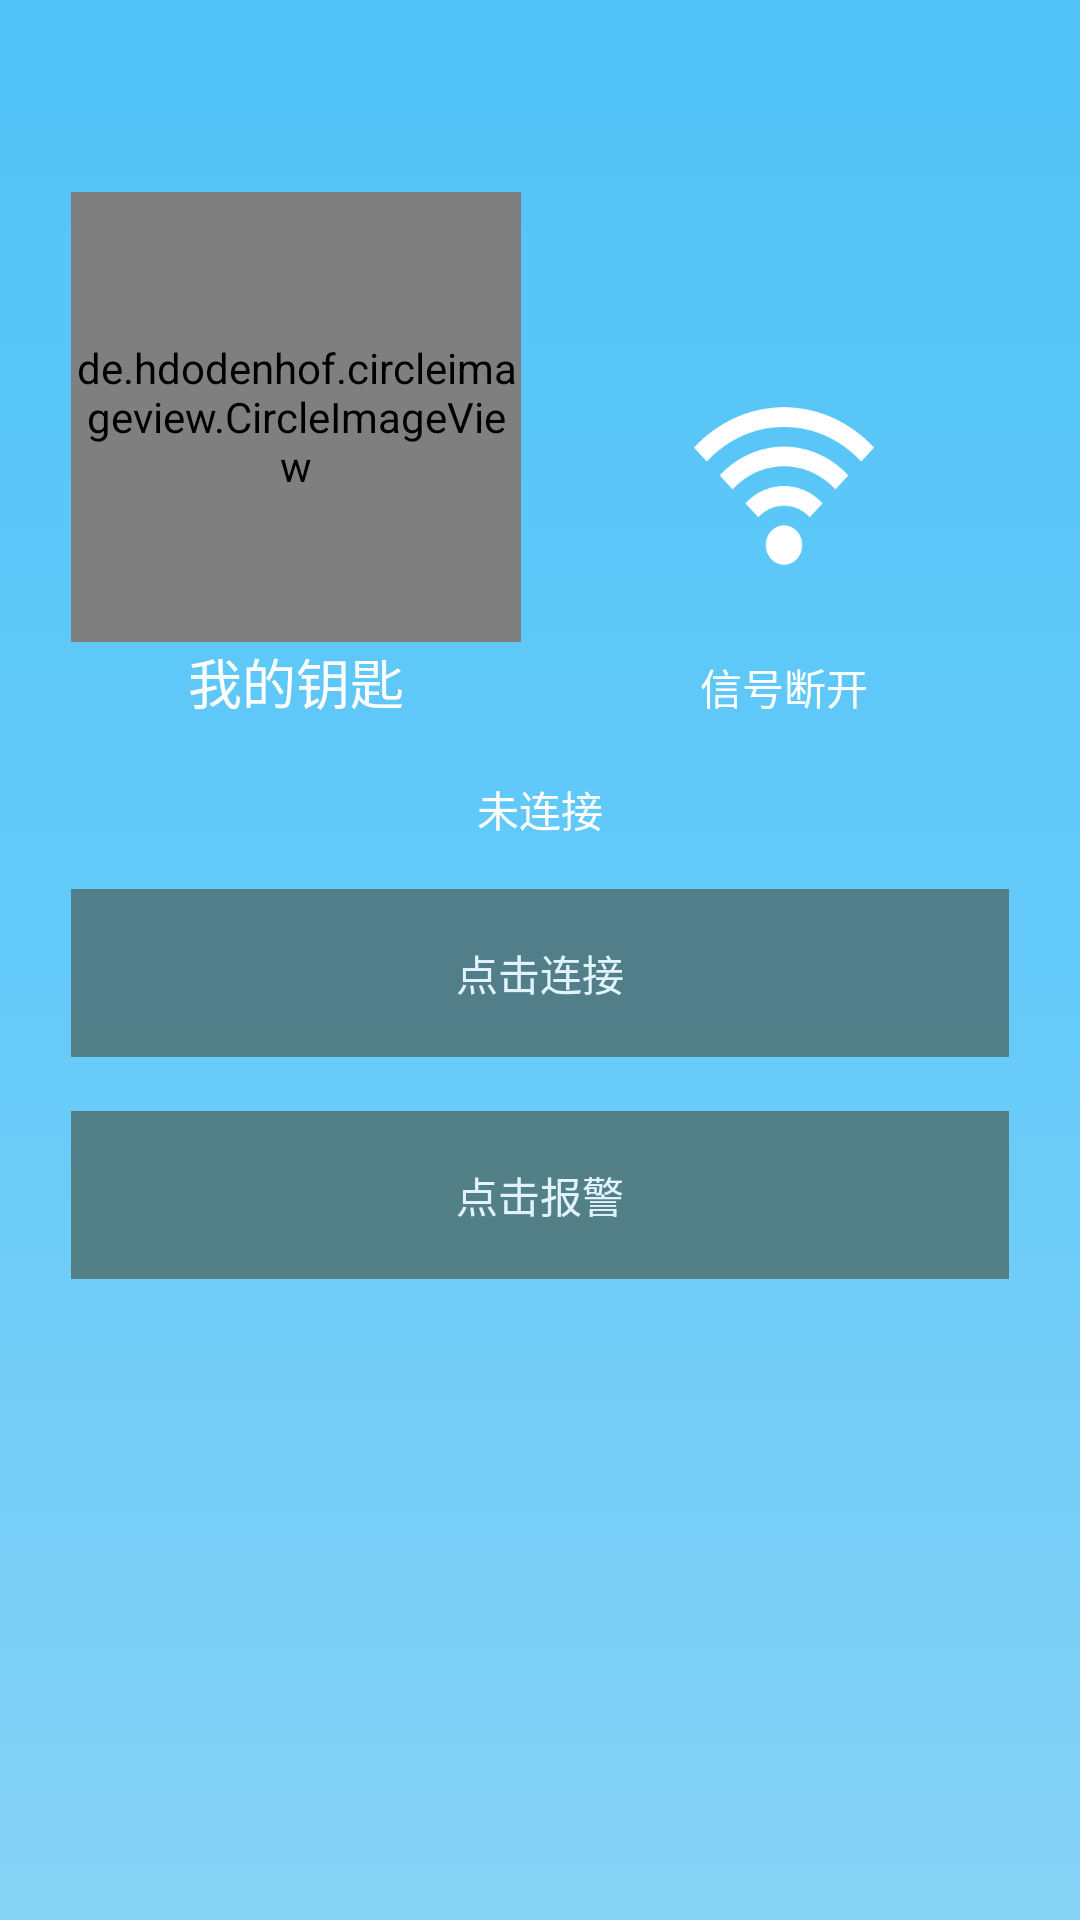

Where to tap for icons on this 1080px×1920px app screen, as (x,y):
wifi: (784,486)
